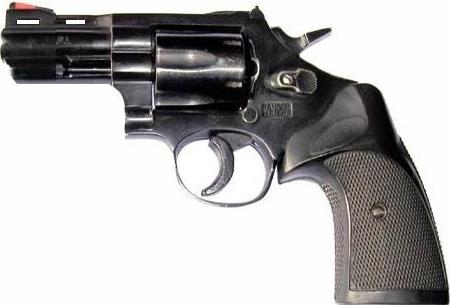gun: (1, 1, 450, 305)
